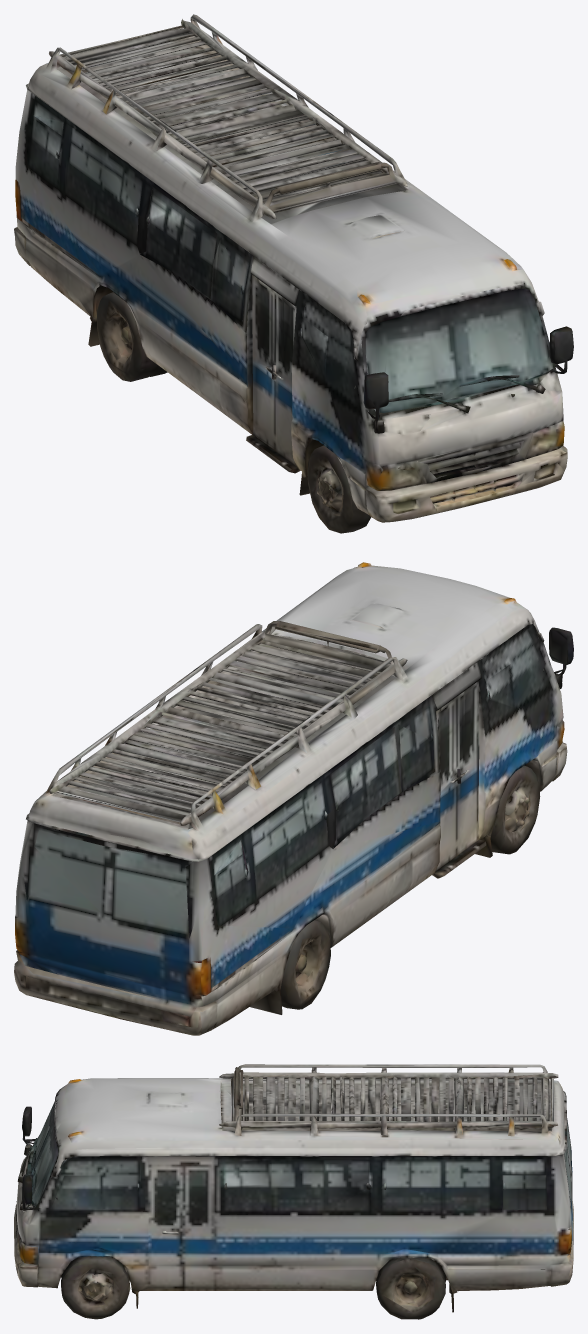
The model's file is car_minibus.glb.
3 renders of one model, top to bottom at view 1: azimuth 30°, elevation 25°; view 2: azimuth 150°, elevation 25°; view 3: azimuth 270°, elevation 25°, orthographic. The views are drawn at different scales.
Visible parts, largest first — view 1: geometry_0; view 2: geometry_0; view 3: geometry_0.
Boxes of the visible parts, bbox=[...] form: geometry_0: bbox=[14, 14, 573, 533]; geometry_0: bbox=[14, 562, 573, 1035]; geometry_0: bbox=[14, 1064, 573, 1319].
Bounding box in the file's own units: 0.3674 × 0.449 × 1.14.
1 material, 1 textured.
